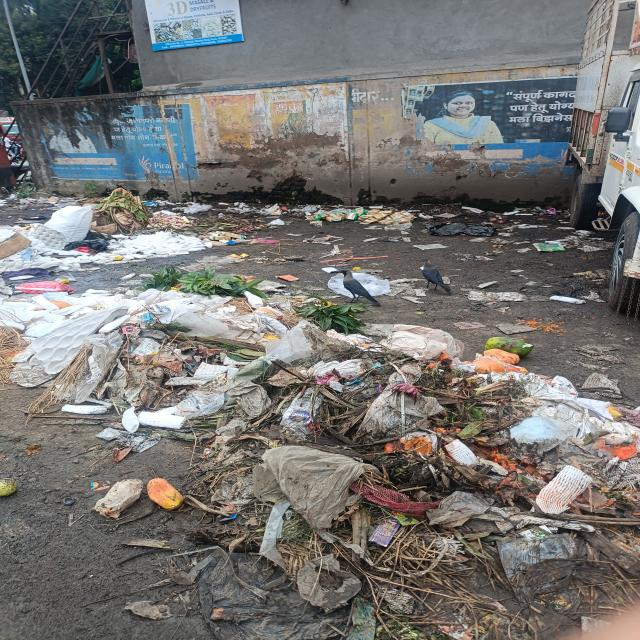garbage: (214, 293, 640, 640), (4, 194, 205, 422)
